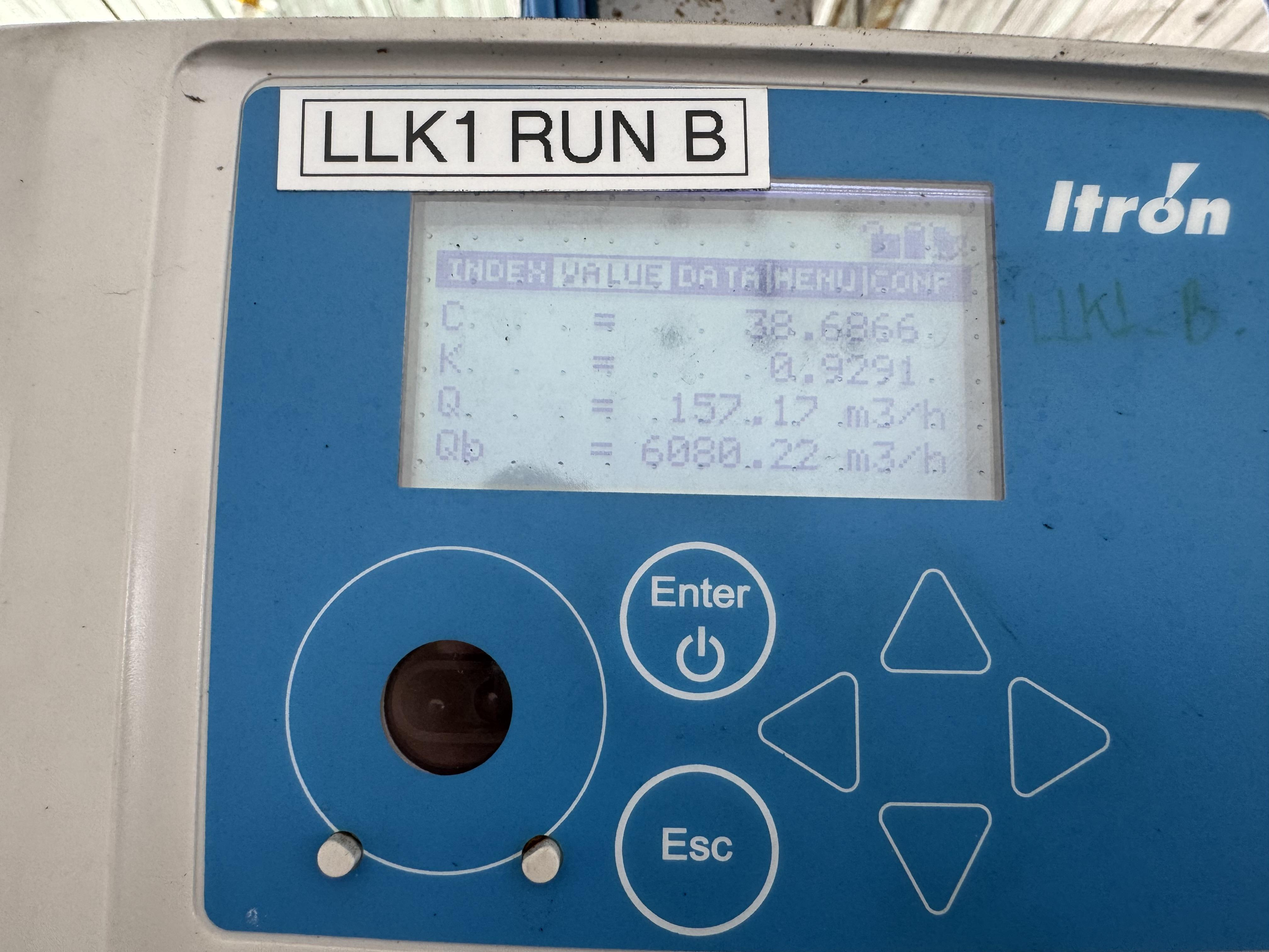digital_screen: (399, 168, 1012, 503)
